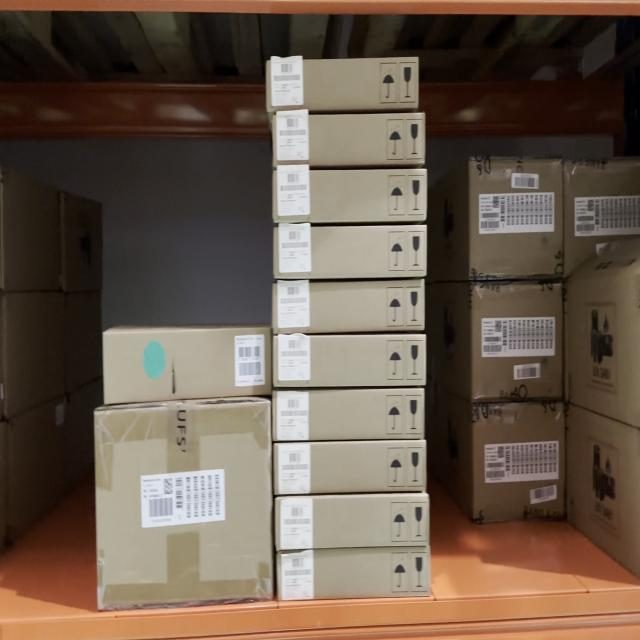box: (97, 411, 272, 604), (103, 332, 269, 392), (474, 161, 560, 275), (474, 288, 560, 391), (476, 410, 564, 510), (266, 57, 420, 109), (274, 170, 426, 221), (273, 228, 427, 275), (276, 444, 426, 492), (274, 284, 426, 328), (274, 118, 424, 162), (274, 391, 424, 435), (274, 336, 426, 379), (275, 502, 430, 540), (277, 556, 430, 594)
